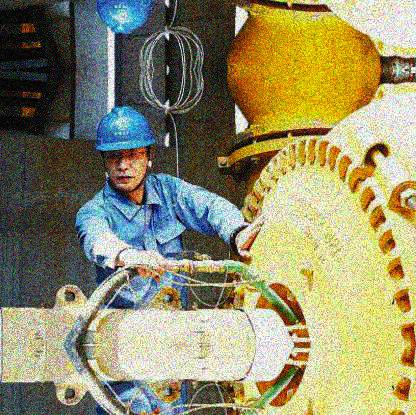helmet: (94, 104, 152, 191)
